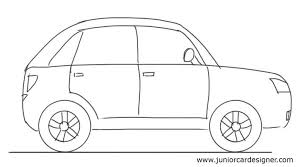car: (17, 10, 295, 154)
